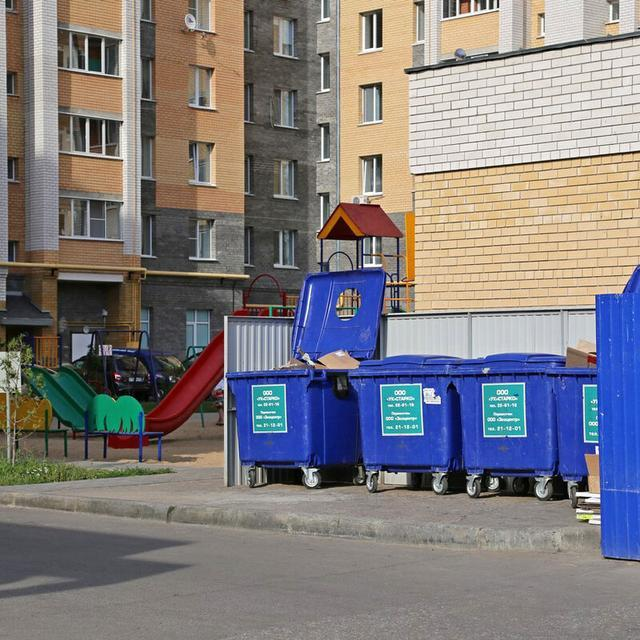Trash_Can_Closed: (450, 353, 566, 477), (348, 354, 462, 472)
Trash_Can_Full: (225, 351, 360, 468), (544, 345, 597, 481)
